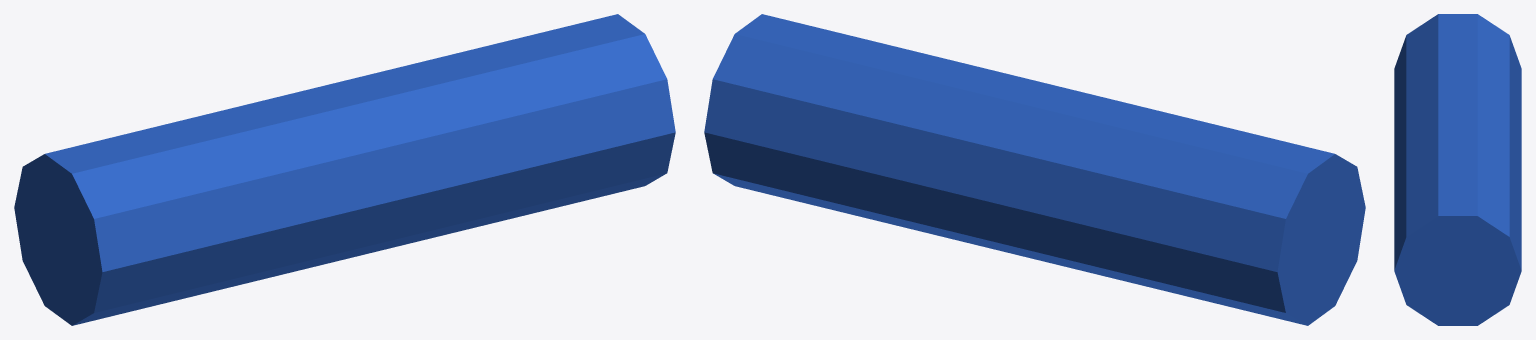
File: foam_roller.fbx
3 renders of one model, left to right at view 1: azimuth 30°, elevation 25°; view 2: azimuth 150°, elevation 25°; view 3: azimuth 270°, elevation 25°, orthographic. The views are drawn at different scales.
Parts seen in each view (by area): view 1: foam_roller; view 2: foam_roller; view 3: foam_roller.
Boxes of the visible parts, x1,y1,x2,y2 form: foam_roller: (14,14,675,325); foam_roller: (704,14,1365,325); foam_roller: (1394,14,1521,325).
Size of the model in its own units: 0.6 by 0.1522 by 0.16.
